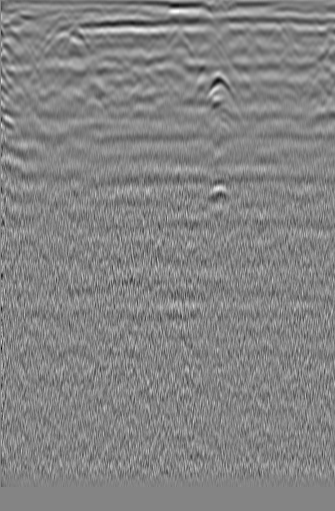가스: (200, 180, 234, 207)
상수: (13, 37, 47, 67)
오수: (275, 37, 313, 66)
우수: (142, 31, 171, 63)
